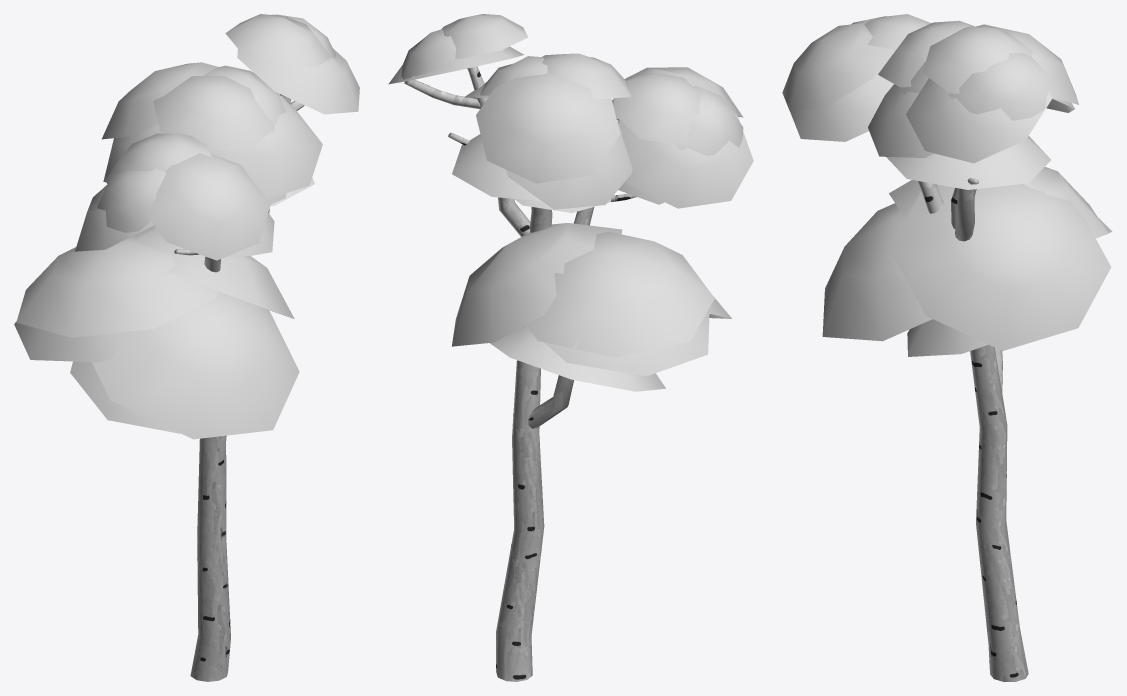
File: Birch_4.glb
3 renders of one model, left to right at view 1: azimuth 30°, elevation 25°; view 2: azimuth 150°, elevation 25°; view 3: azimuth 270°, elevation 25°, orthographic. The views are drawn at different scales.
Visible parts, largest first — view 1: Birch_4; view 2: Birch_4; view 3: Birch_4.
Boxes of the visible parts, <box> form: Birch_4: <box>14,14,359,681</box>; Birch_4: <box>388,14,753,681</box>; Birch_4: <box>782,14,1112,681</box>.
Bounding box in the file's own units: 5.17 × 9.99 × 4.5.
Materials: 2 (1 with a texture image).
